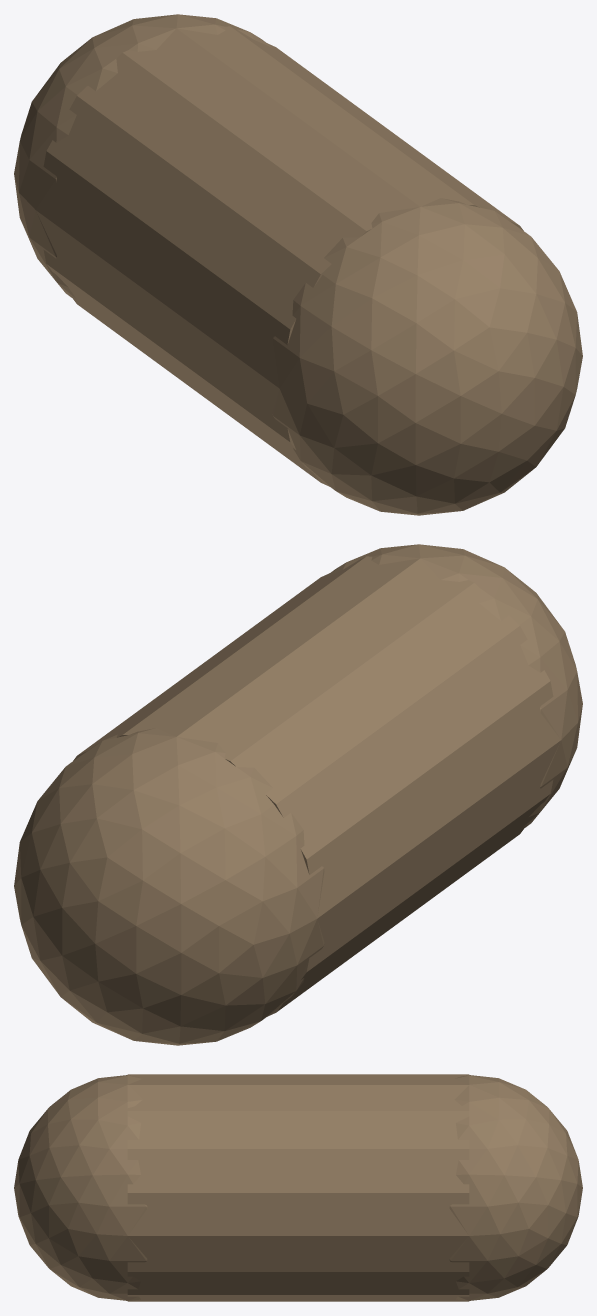
The model's file is windman_left_upper_leg.glb.
3 renders of one model, top to bottom at view 1: azimuth 30°, elevation 25°; view 2: azimuth 150°, elevation 25°; view 3: azimuth 270°, elevation 25°, orthographic. The views are drawn at different scales.
Visible parts, largest first — view 1: geometry_0; view 2: geometry_0; view 3: geometry_0.
Part boxes in pixels (x1,y1,x2,y2): geometry_0: (14,14,582,515); geometry_0: (14,544,582,1045); geometry_0: (14,1074,582,1301).
Bounding box in the file's own units: 0.168 × 0.168 × 0.42.
